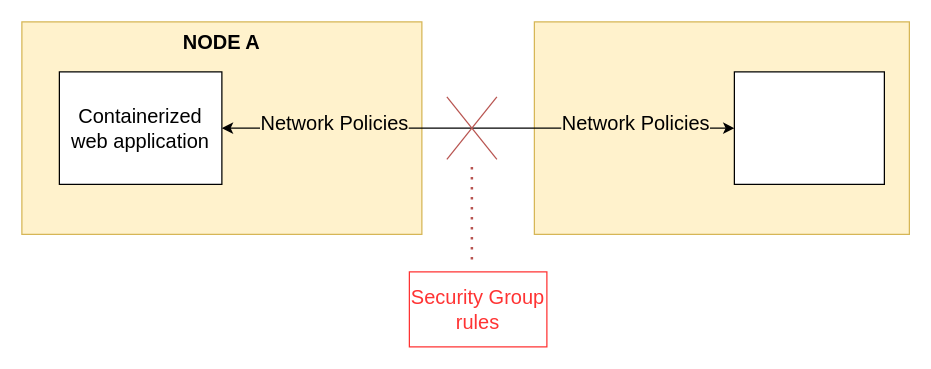
Image size: 931x369. Some labels were removed from this diagram. Each missing label, with the box of its shape:
Containerized database: (733, 71, 884, 184)
NODE B: (533, 21, 909, 234)
